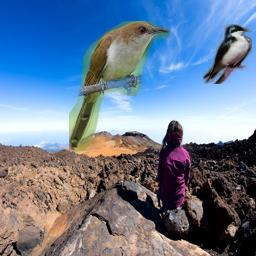Cuckoo: (69, 21, 170, 151)
Swallow: (203, 24, 252, 84)
